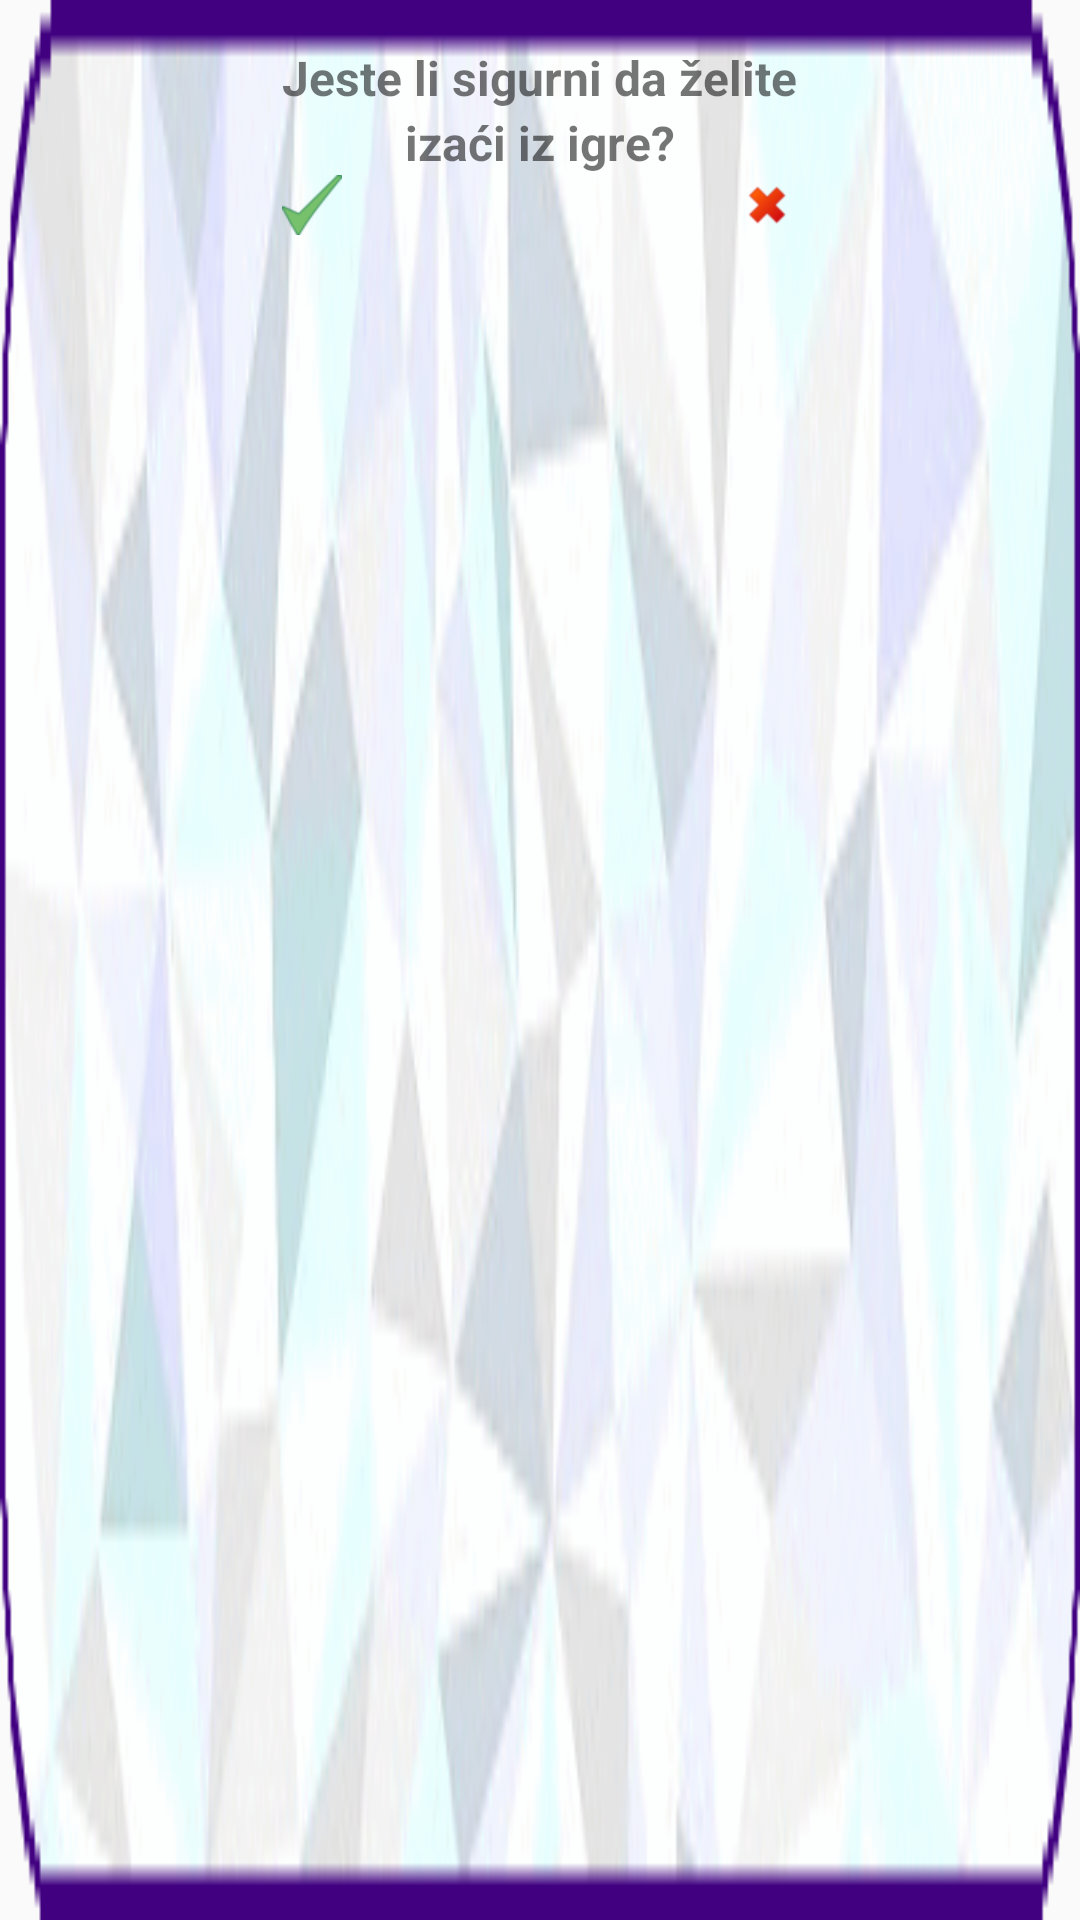

Icons on this 1080*1920 Android screen, each with the point to tap as [x,y]:
right: [312,205]
wrong: [767,205]
